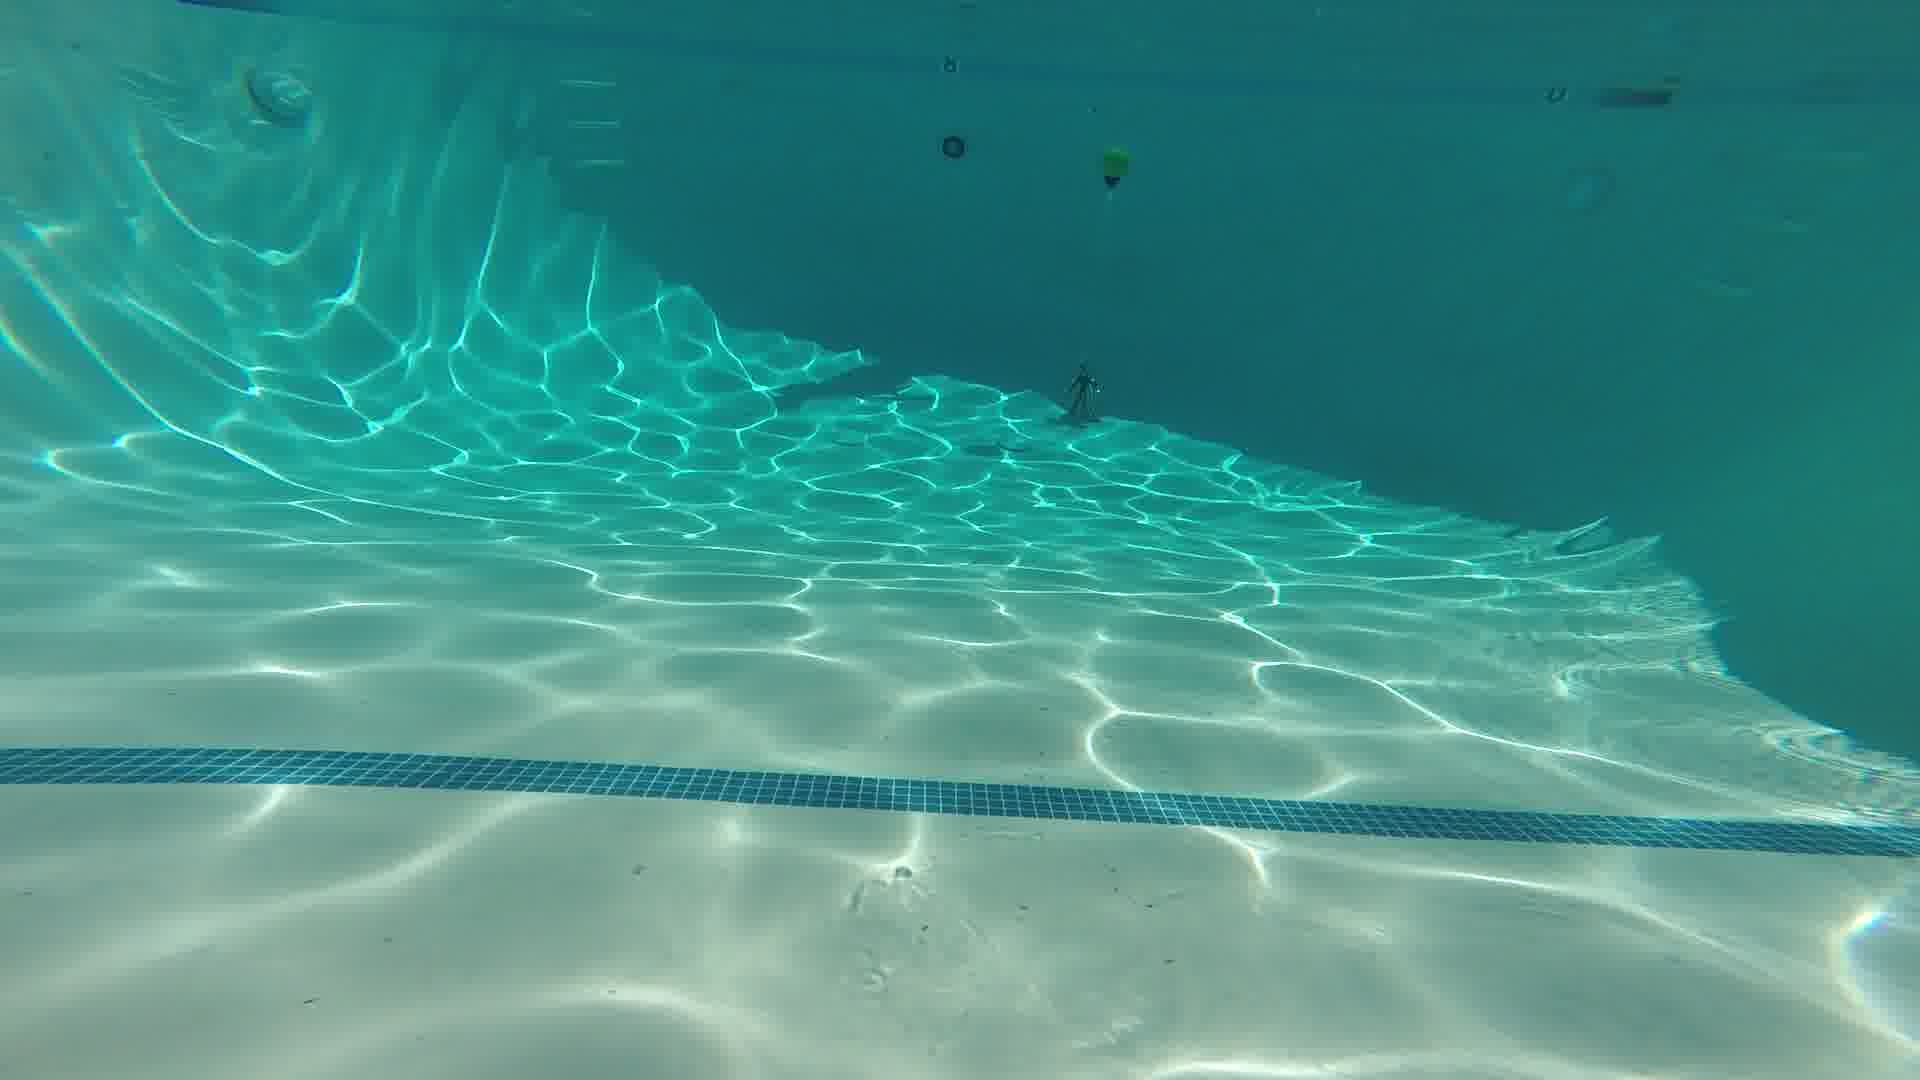yellow buoy: (1096, 140, 1141, 200)
